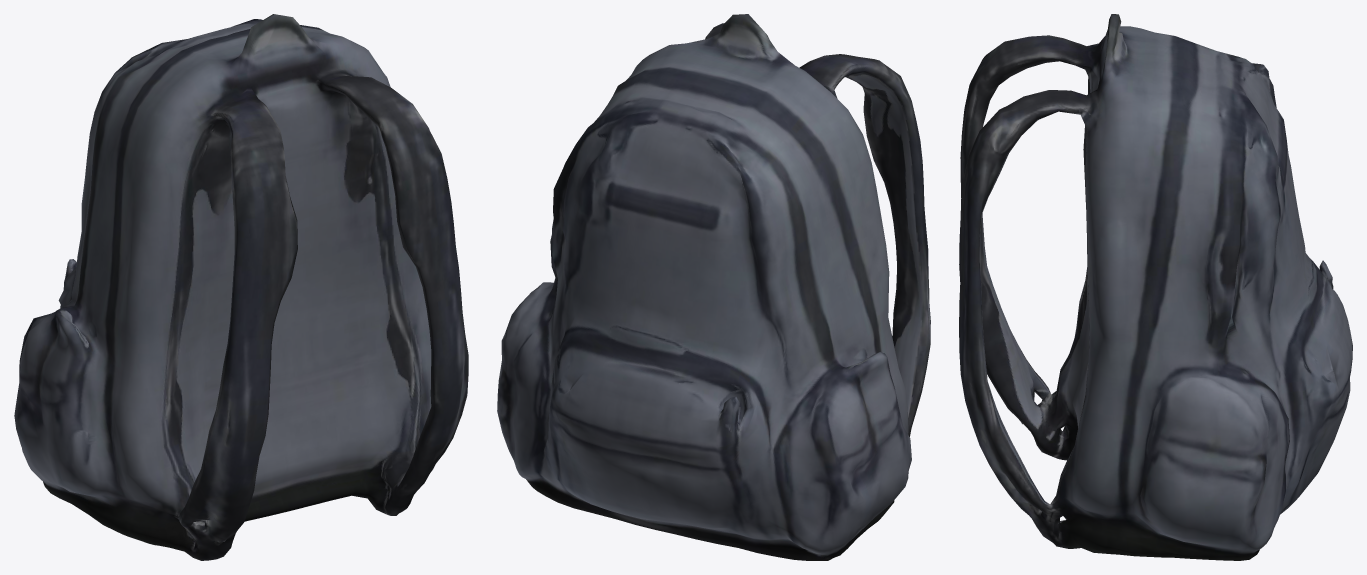
File: backpack1.fbx
3 renders of one model, left to right at view 1: azimuth 30°, elevation 25°; view 2: azimuth 150°, elevation 25°; view 3: azimuth 270°, elevation 25°, orthographic. The views are drawn at different scales.
Visible parts, largest first — view 1: mesh; view 2: mesh; view 3: mesh.
Boxes of the visible parts, left/top/right/bottom form: mesh: left=14, top=14, right=468, bottom=560; mesh: left=497, top=14, right=930, bottom=560; mesh: left=959, top=14, right=1352, bottom=560.
Bounding box in the file's own units: 82.34 × 99.52 × 72.66.
